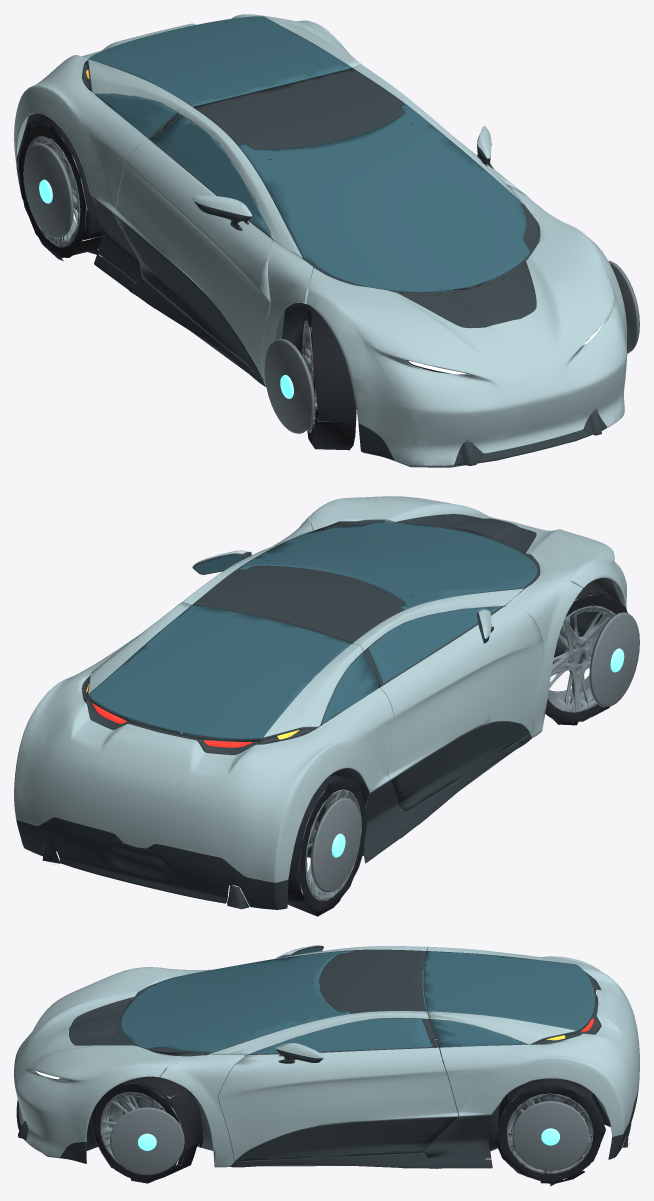
The model's file is sentinel-sedan.glb.
3 renders of one model, top to bottom at view 1: azimuth 30°, elevation 25°; view 2: azimuth 150°, elevation 25°; view 3: azimuth 270°, elevation 25°, orthographic. The views are drawn at different scales.
Parts seen in each view (by area): view 1: BodyHood, BodyWindshield, BodyDoorRColor1, BodyRearwindow, BodyRearPanelsColor1, BodyRoofPanel, BodyPillars, BodyPanelsColor2, Mesh_91.002, BodyDoorRColor2, BodyHoodTopgrill, BodyDoorRWindow (+10 smaller); view 2: BodyRearPanelsColor1, BodyRearwindow, BodyDoorRColor1, BodyWindshield, BodyPanelsColor2, BodyRoofPanel, BodyHood, BodyPillars, BodyDoorRColor2, BodyDoorRWindow, Mesh_95.002, WheelFrontRRim (+9 smaller); view 3: BodyDoorLColor1, BodyRearPanelsColor1, BodyWindshield, BodyHood, BodyRearwindow, BodyPillars, BodyRoofPanel, BodyDoorLColor2, BodyPanelsColor2, Aero hub.002, Mesh_89.002, Mesh_93.002 (+10 smaller).
Part boxes in pixels (<box>): BodyHood: <box>306,214,627,465</box>; BodyWindshield: <box>237,103,530,292</box>; BodyDoorRColor1: <box>113,139,272,377</box>; BodyRearwindow: <box>88,16,351,106</box>; BodyRearPanelsColor1: <box>14,14,361,212</box>; BodyRoofPanel: <box>193,68,403,149</box>; BodyPillars: <box>178,64,568,385</box>; BodyPanelsColor2: <box>16,105,590,462</box>; Mesh_91.002: <box>302,307,356,450</box>; BodyDoorRColor2: <box>113,213,261,377</box>; BodyHoodTopgrill: <box>398,262,536,327</box>; BodyDoorRWindow: <box>153,115,271,236</box>; BodyRearPanelsColor1: <box>14,602,393,882</box>; BodyRearwindow: <box>88,605,351,739</box>; BodyDoorRColor1: <box>380,606,543,779</box>; BodyWindshield: <box>237,521,537,610</box>; BodyPanelsColor2: <box>16,730,531,909</box>; BodyRoofPanel: <box>192,565,403,643</box>; BodyHood: <box>308,496,626,609</box>; BodyPillars: <box>182,517,582,737</box>; BodyDoorRColor2: <box>390,721,529,811</box>; BodyDoorRWindow: <box>368,606,501,683</box>; Mesh_95.002: <box>287,774,366,916</box>; WheelFrontRRim: <box>547,594,615,712</box>; BodyDoorLColor1: <box>218,1047,457,1161</box>; BodyRearPanelsColor1: <box>427,946,639,1136</box>; BodyWindshield: <box>120,950,351,1052</box>; BodyHood: <box>14,967,193,1157</box>; BodyRearwindow: <box>423,951,595,1031</box>; BodyPillars: <box>160,946,428,1167</box>; BodyRoofPanel: <box>319,949,426,1013</box>; BodyDoorLColor2: <box>235,1116,457,1161</box>; BodyPanelsColor2: <box>16,1040,639,1168</box>; Aero hub.002: <box>512,1101,589,1170</box>; Mesh_89.002: <box>91,1075,203,1183</box>; Mesh_93.002: <box>495,1078,605,1186</box>.
Bounding box in the file's own units: 2.19 × 1.26 × 4.6.
